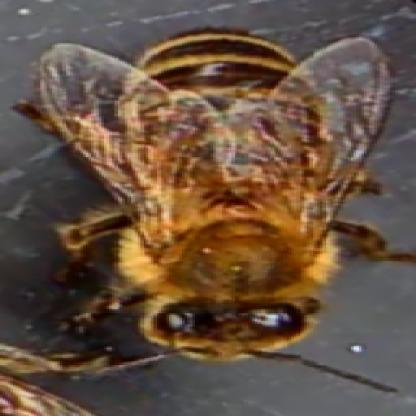bee: (88, 30, 346, 354)
